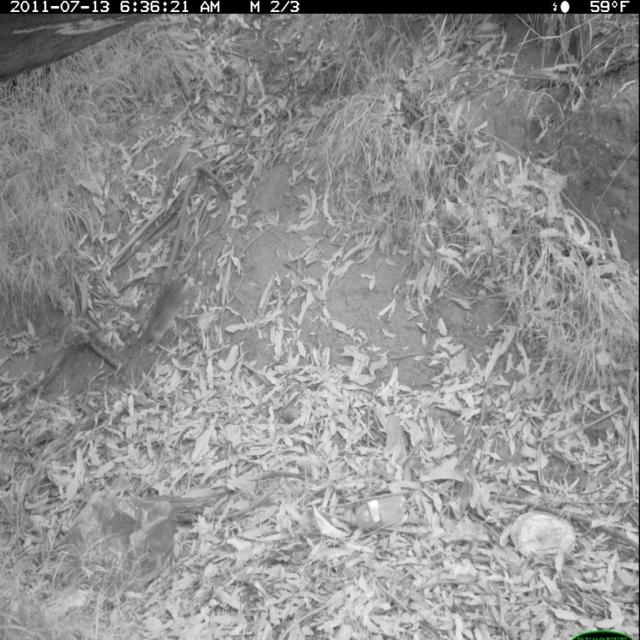rabbit: (135, 266, 198, 355)
